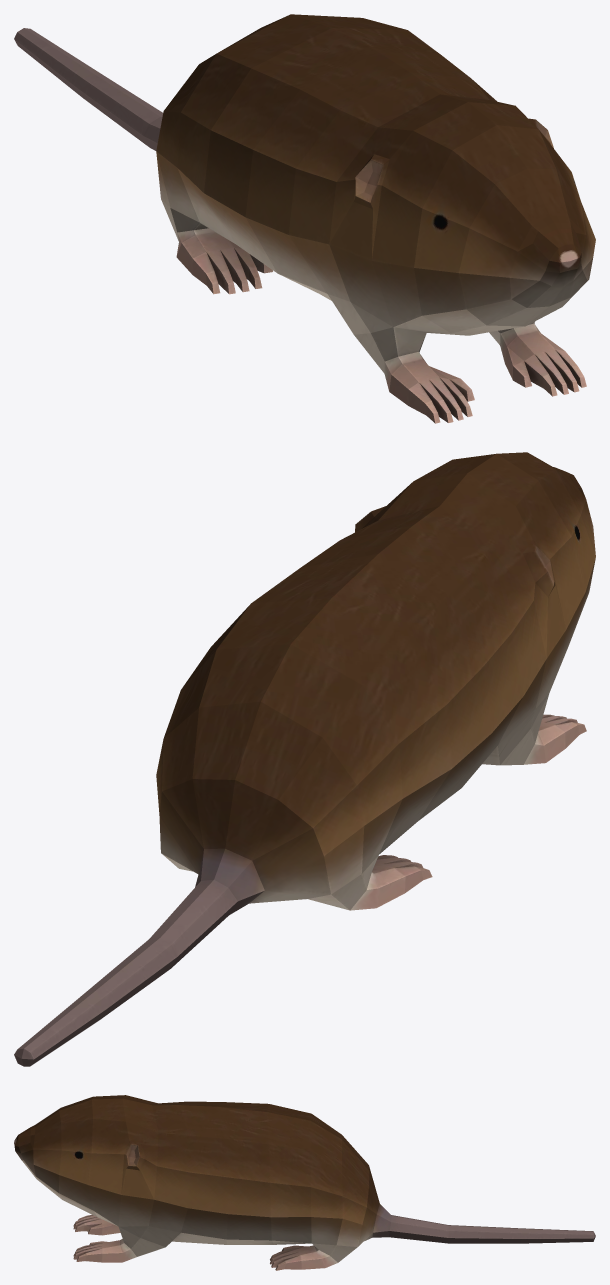
The model's file is 1fi2x6XlYjB.glb.
3 renders of one model, top to bottom at view 1: azimuth 30°, elevation 25°; view 2: azimuth 150°, elevation 25°; view 3: azimuth 270°, elevation 25°, orthographic. The views are drawn at different scales.
Parts seen in each view (by area): view 1: Gopher_Mesh; view 2: Gopher_Mesh; view 3: Gopher_Mesh.
Boxes of the visible parts, box(x1,y1,x2,y2) form: Gopher_Mesh: box(14, 14, 595, 423); Gopher_Mesh: box(14, 452, 595, 1066); Gopher_Mesh: box(14, 1095, 595, 1270).
Bounding box in the file's own units: 0.9553 × 1 × 3.66.
1 material, 1 textured.
